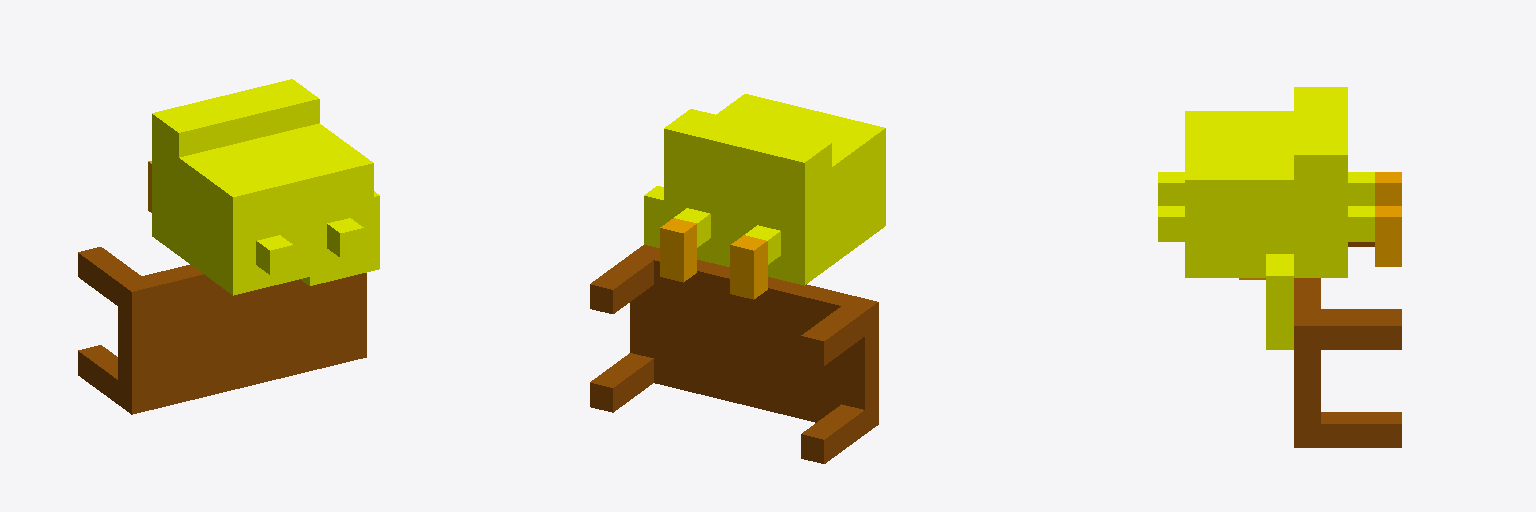
3 views of the same model, side by side, from view 1: azimuth 30°, elevation 25°; view 2: azimuth 150°, elevation 25°; view 3: azimuth 270°, elevation 25° (orthographic).
Visible parts, largest first — view 1: pollito; view 2: pollito; view 3: pollito.
Boxes of the visible parts, <box> form: pollito: <box>78,79,379,414</box>; pollito: <box>590,94,885,463</box>; pollito: <box>1158,87,1401,447</box>.
Bounding box in the file's own units: 10 × 11 × 9.
Materials: 1 (1 with a texture image).